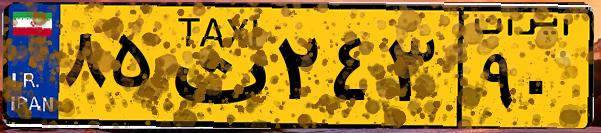0: (525, 38, 570, 115)
2: (270, 28, 330, 110)
3: (385, 28, 445, 110)
4: (330, 28, 385, 110)
5: (110, 28, 158, 98)
8: (57, 26, 110, 100)
9: (475, 38, 525, 113)
ت: (158, 12, 270, 120)
